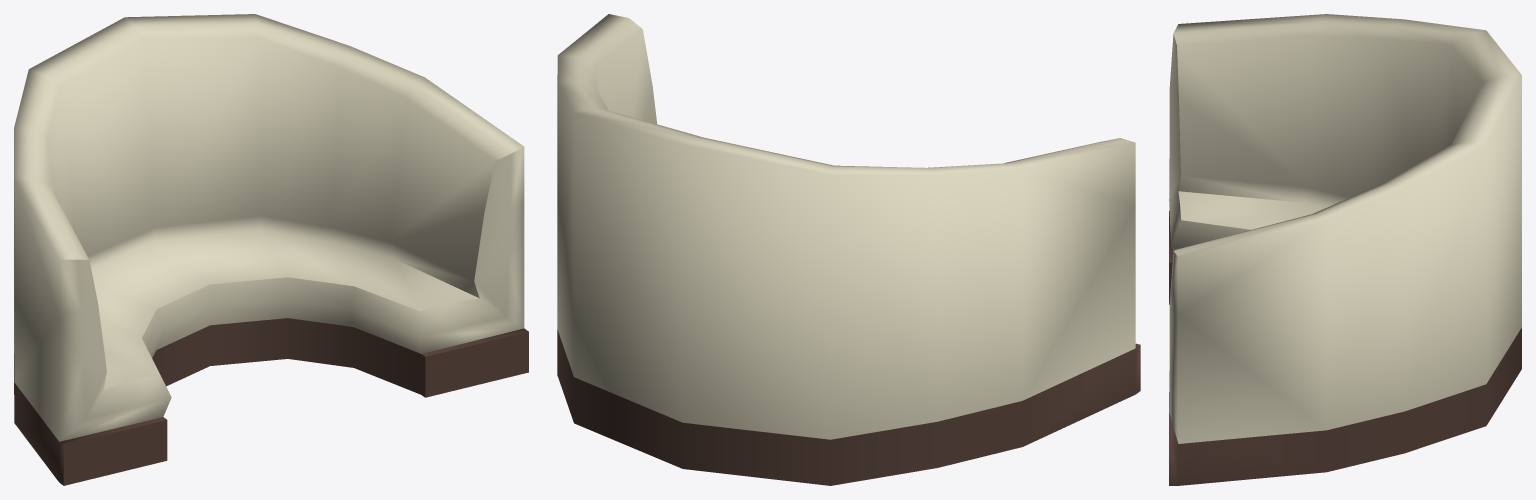
File: Seat-Booth_01.fbx
The picture shows the model from 3 angles, left to right: view 1: azimuth 30°, elevation 25°; view 2: azimuth 150°, elevation 25°; view 3: azimuth 270°, elevation 25°; orthographic projection. The views are drawn at different scales.
Parts seen in each view (by area): view 1: BoothSeat; view 2: BoothSeat; view 3: BoothSeat.
Boxes of the visible parts, bbox=[...] form: BoothSeat: bbox=[14, 14, 528, 485]; BoothSeat: bbox=[557, 14, 1140, 485]; BoothSeat: bbox=[1169, 14, 1521, 485].
Size of the model in its own units: 2.9 by 1.71 by 1.85.
